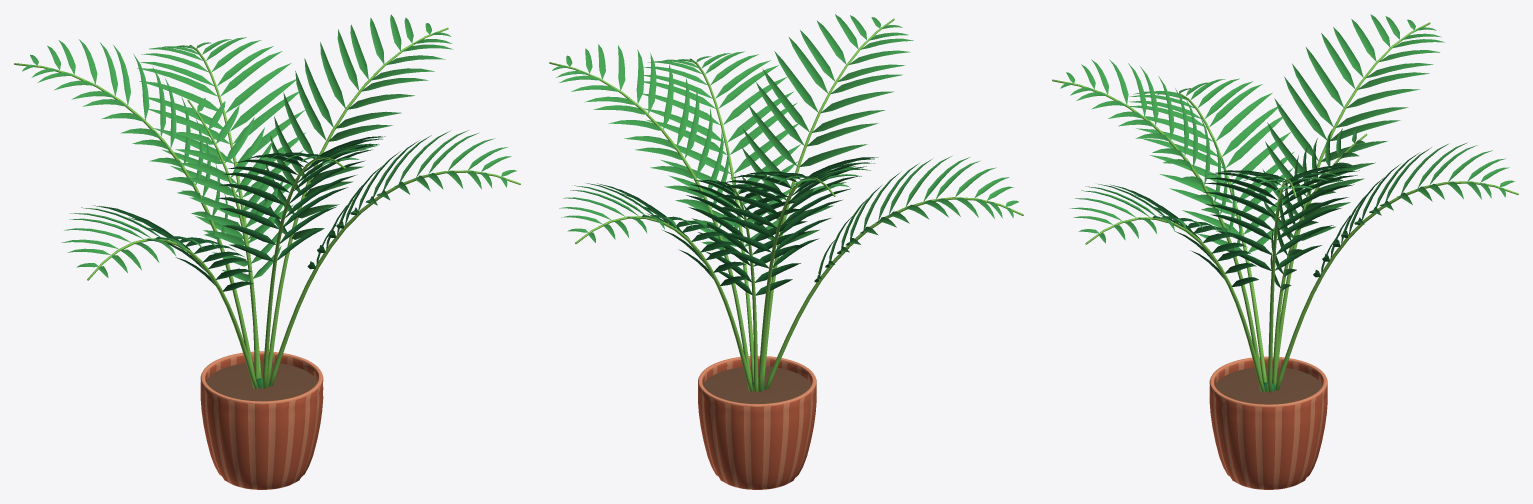
Rendered from planta_palmeira_areca.glb.
3 renders of one model, left to right at view 1: azimuth 30°, elevation 25°; view 2: azimuth 150°, elevation 25°; view 3: azimuth 270°, elevation 25°, orthographic. The views are drawn at different scales.
Parts seen in each view (by area): view 1: planta_palmeira_areca; view 2: planta_palmeira_areca; view 3: planta_palmeira_areca.
Boxes of the visible parts, x1,y1,x2,y2 form: planta_palmeira_areca: [14, 14, 520, 489]; planta_palmeira_areca: [549, 14, 1023, 489]; planta_palmeira_areca: [1052, 14, 1518, 489].
Bounding box in the file's own units: 1.7 × 1.51 × 1.67.
Materials: 1 (1 with a texture image).
